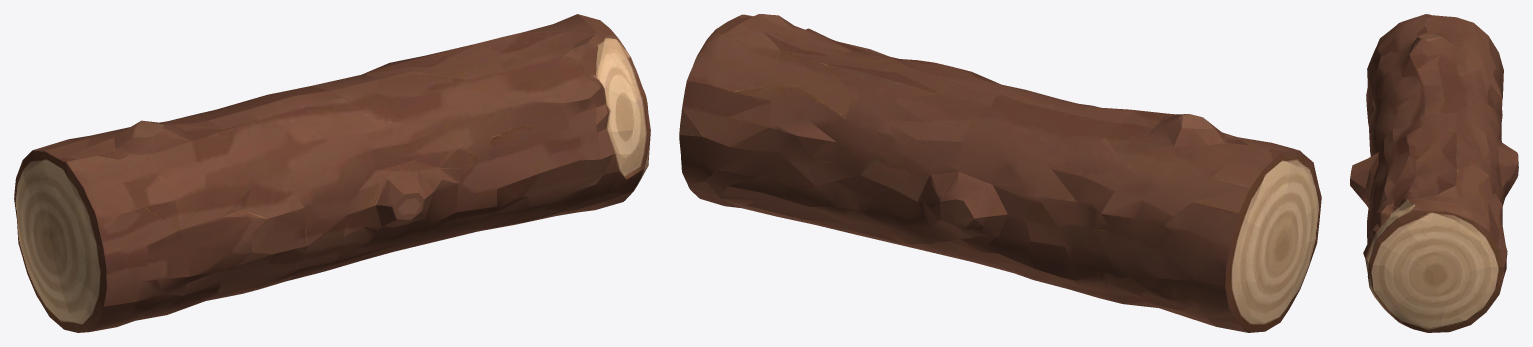
The model's file is nature-fallen-log.glb.
The picture shows the model from 3 angles, left to right: view 1: azimuth 30°, elevation 25°; view 2: azimuth 150°, elevation 25°; view 3: azimuth 270°, elevation 25°; orthographic projection. The views are drawn at different scales.
Visible parts, largest first — view 1: nature-fallen-log-fit; view 2: nature-fallen-log-fit; view 3: nature-fallen-log-fit.
Part boxes in pixels (x1,y1,x2,y2): nature-fallen-log-fit: [14, 14, 650, 332]; nature-fallen-log-fit: [679, 14, 1321, 332]; nature-fallen-log-fit: [1350, 14, 1518, 332].
Bounding box in the file's own units: 2.16 × 0.6731 × 0.7613.
1 material, 1 textured.
